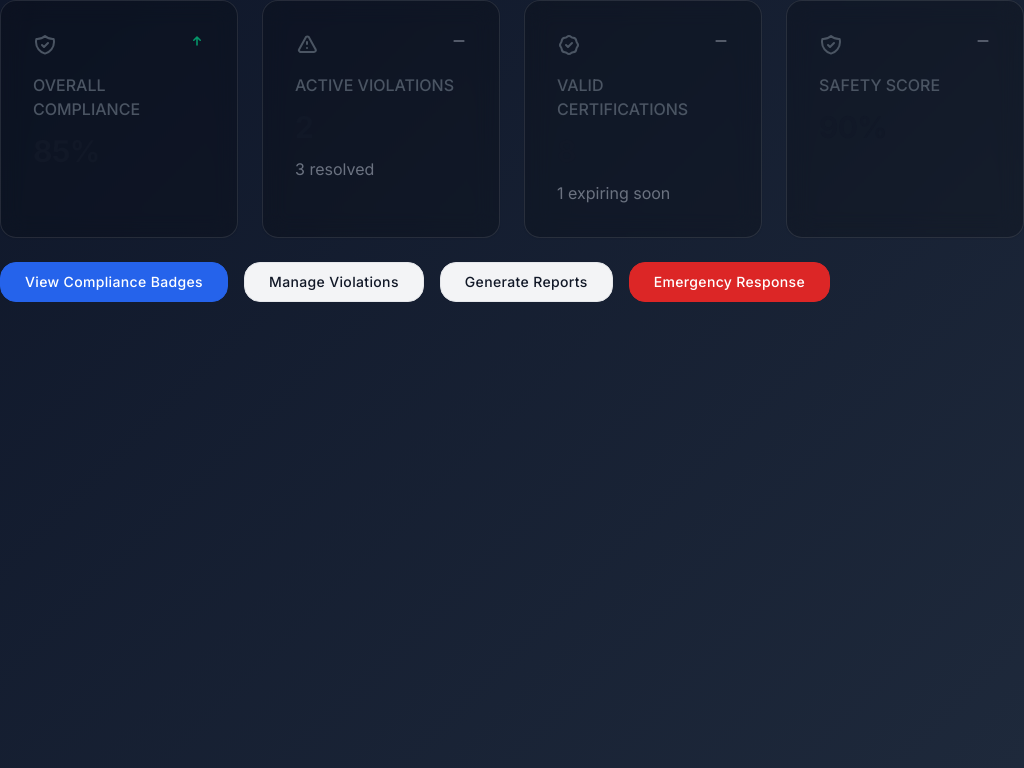
Scenario: ComplianceDashboard › opens violations modal when button is clicked
Step 1. Click the button "Manage Violations" → [334, 282], box [244,262,424,302]
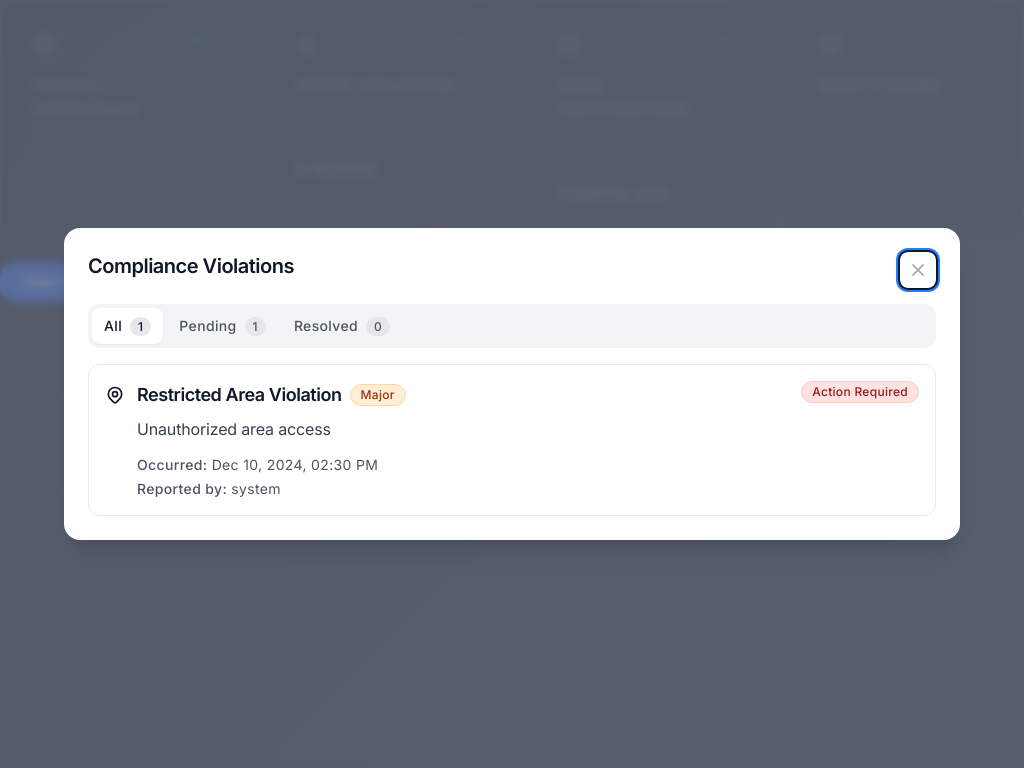
Expected: the heading "Compliance Violations" is shown, [88,252,310,280]
